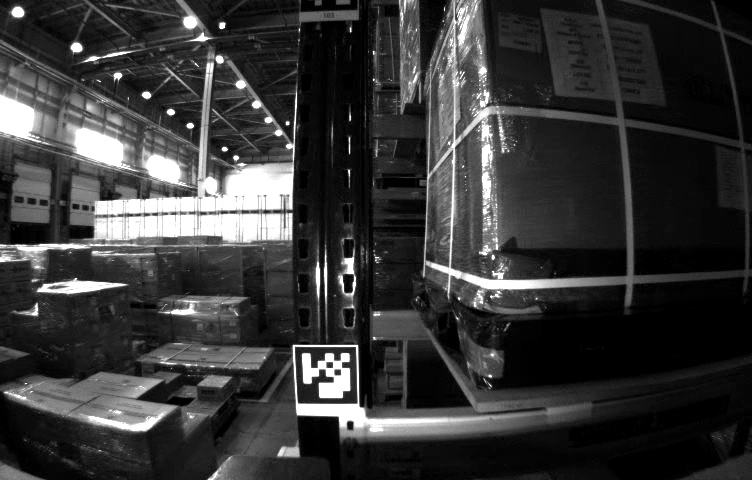True Barcode: (497, 8, 541, 56)
